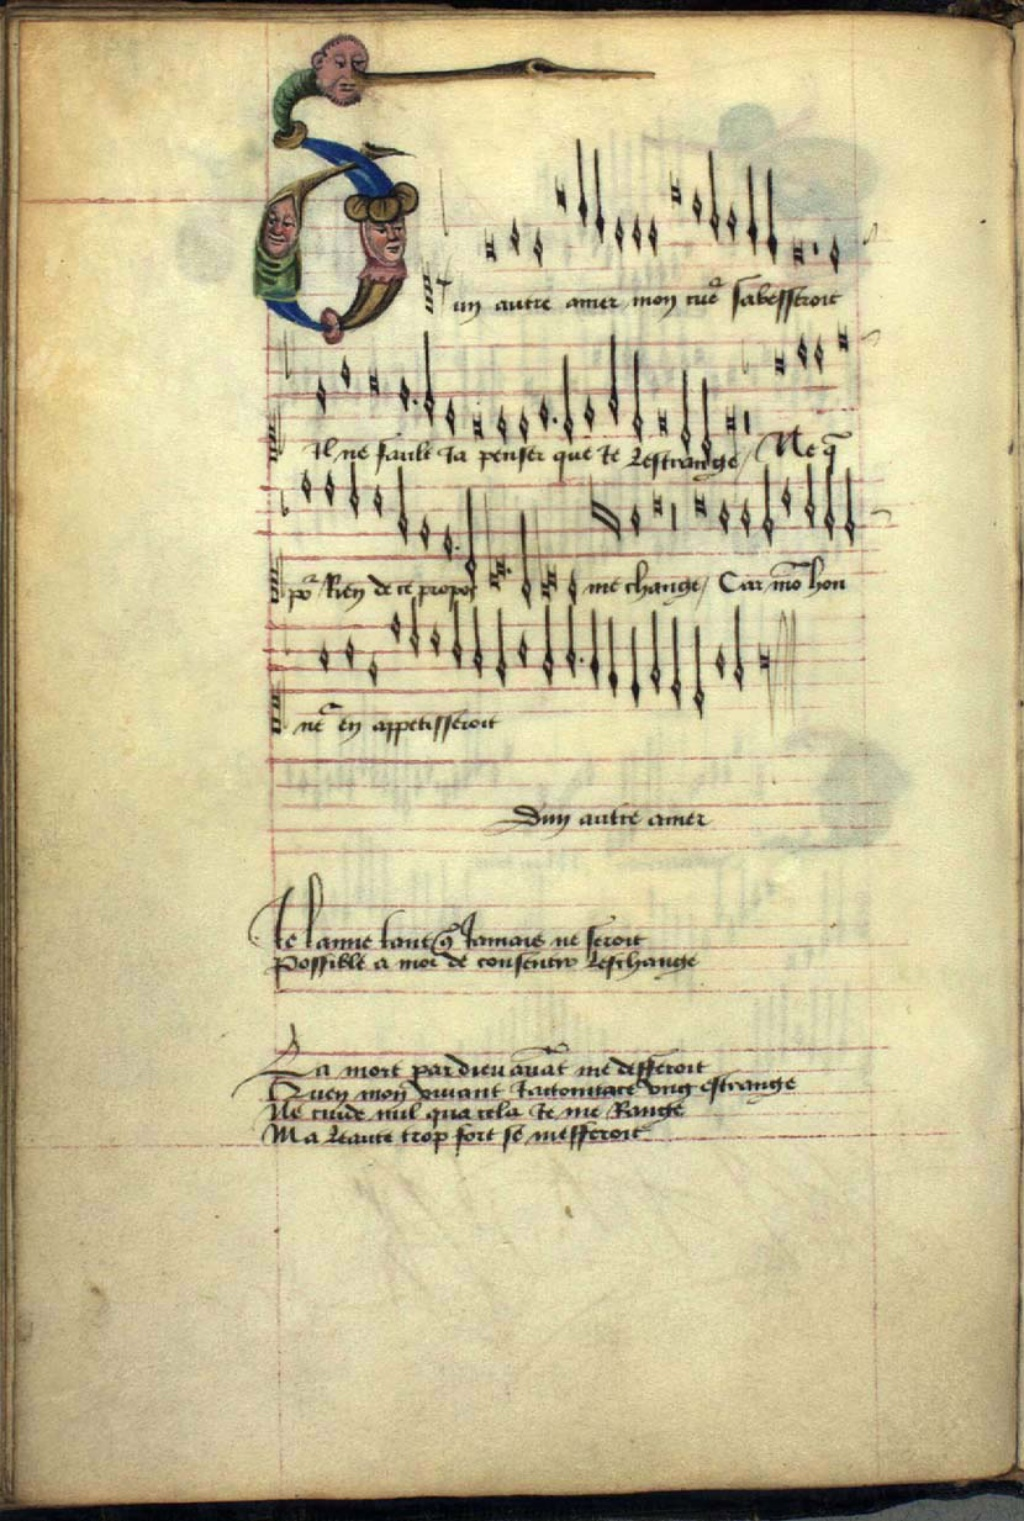breve rest: (738, 384, 758, 442)
breve_10: (650, 405, 677, 441), (464, 410, 490, 442)
breve_3: (821, 325, 857, 349)
breve_5: (767, 346, 794, 381)
breve_6: (361, 366, 386, 403)
c clef_11: (261, 416, 280, 469)
custos_3: (853, 321, 891, 368)
flat_12: (275, 405, 289, 461)
flat_5: (734, 328, 758, 384), (280, 328, 297, 385)
longa_10: (720, 402, 742, 465)
minim_10: (557, 349, 579, 445), (626, 347, 648, 445)
minim_11: (677, 360, 696, 461)
minim_12: (694, 371, 717, 461)
minim_8: (417, 328, 440, 431), (601, 328, 624, 430)
point: (546, 408, 563, 431), (409, 391, 424, 413)
semibreve_10: (513, 406, 536, 448), (493, 402, 514, 446)
semibreve_4: (810, 333, 830, 376), (793, 330, 811, 374)
semibreve_5: (334, 352, 358, 397)
semibreve_7: (392, 367, 414, 419), (311, 373, 334, 419)
semibreve_9: (442, 399, 469, 440), (534, 391, 553, 438), (579, 393, 600, 437)
